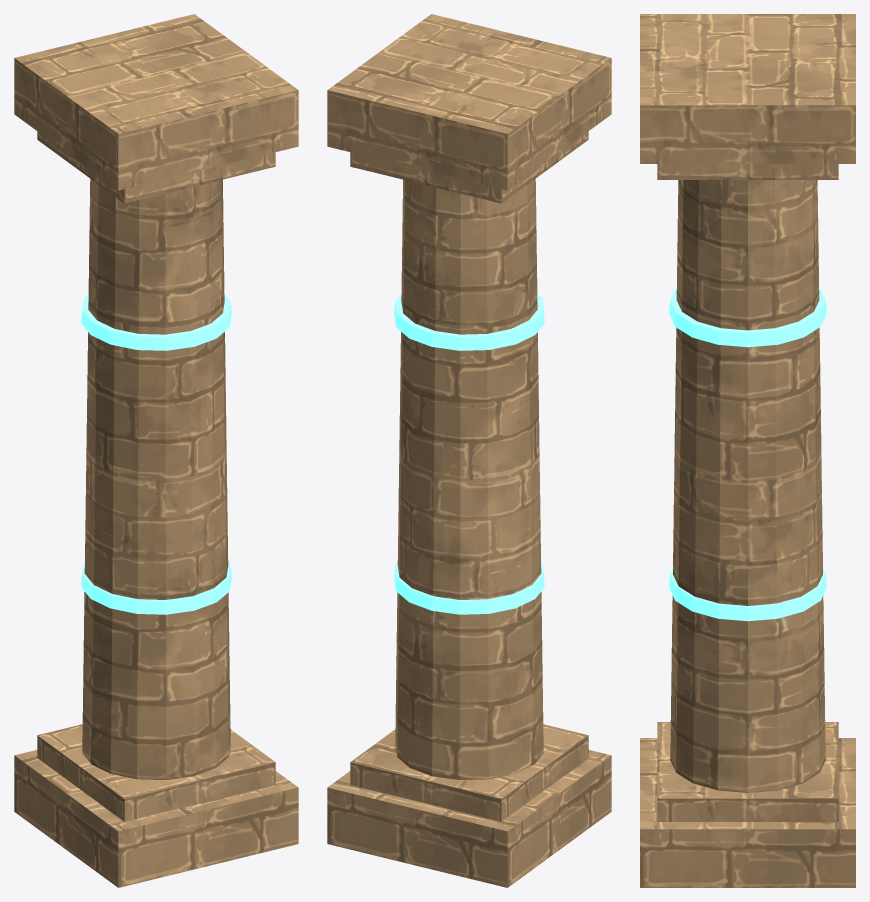
Rendered from column_magitech.gltf.
The picture shows the model from 3 angles, left to right: view 1: azimuth 30°, elevation 25°; view 2: azimuth 150°, elevation 25°; view 3: azimuth 270°, elevation 25°; orthographic projection. The views are drawn at different scales.
Visible parts, largest first — view 1: column_magitech; view 2: column_magitech; view 3: column_magitech.
Part boxes in pixels (x1,y1,x2,y2): column_magitech: (14, 14, 298, 887); column_magitech: (327, 14, 611, 887); column_magitech: (640, 14, 855, 887).
Bounding box in the file's own units: 1 × 4 × 1.
2 materials, 1 textured.
